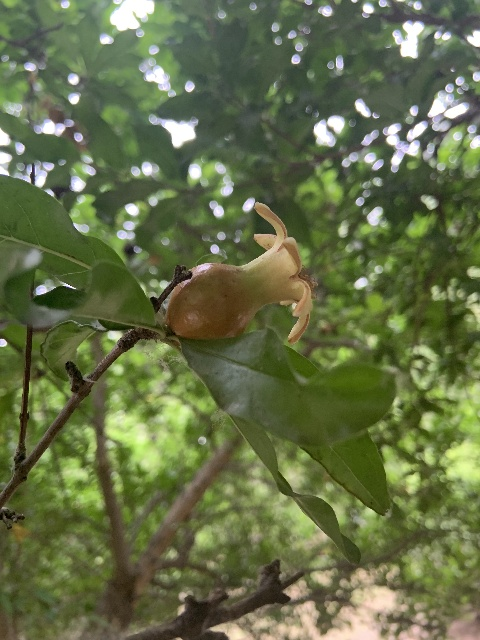early-fruit: (165, 201, 316, 345)
